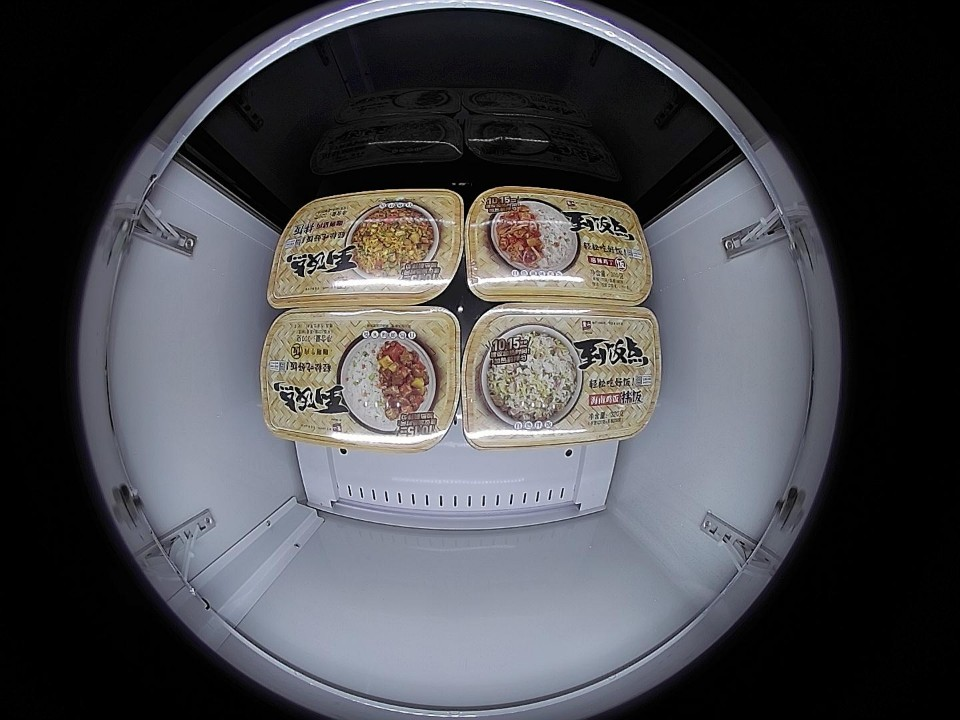daofandian1: (459, 303, 664, 447)
daofandian2: (259, 307, 464, 453)
daofandian3: (266, 187, 466, 308)
daofandian4: (462, 185, 654, 306)
